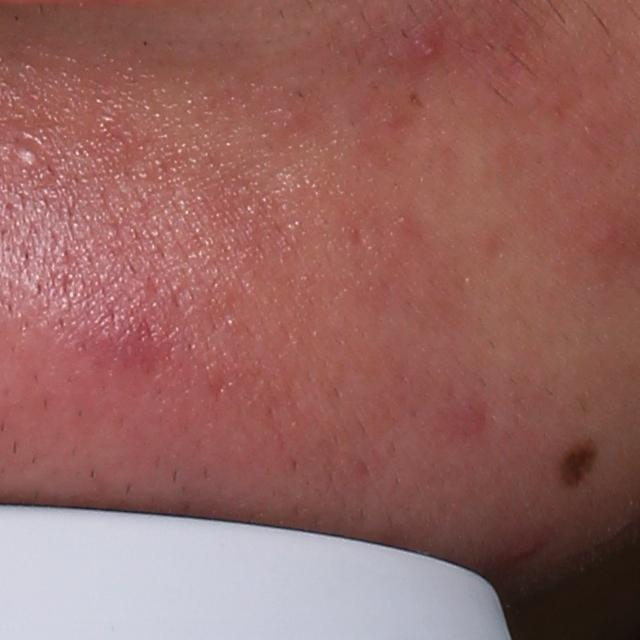nevus: (559, 432, 606, 486)
papule: (405, 32, 440, 70)
pustule: (8, 138, 44, 170)
